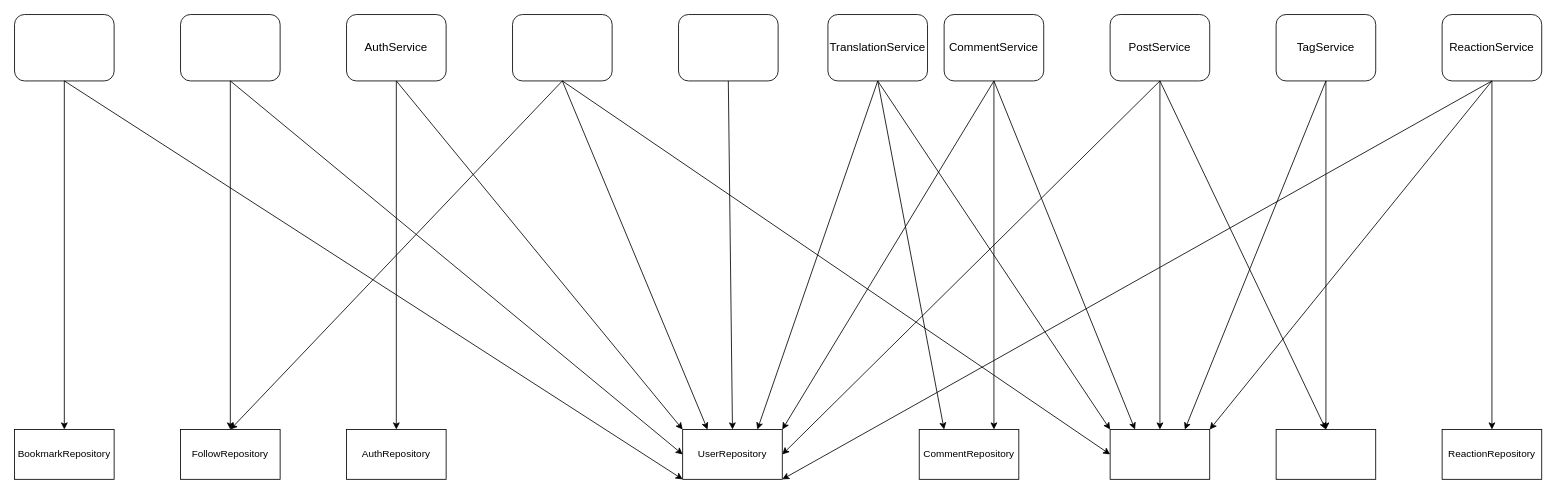
Some shapes in this 1556 by 500 pixel diagram are drawn without their labels. Each missing label, with the centre of its shape:
"BookmarkService" goes at point 64,47.
"FollowService" goes at point 230,47.
"NotificationService" goes at point 562,47.
"PostRepository" goes at point 1159,454.
"TagRepository" goes at point 1325,454.
"UserService" goes at point 728,47.
